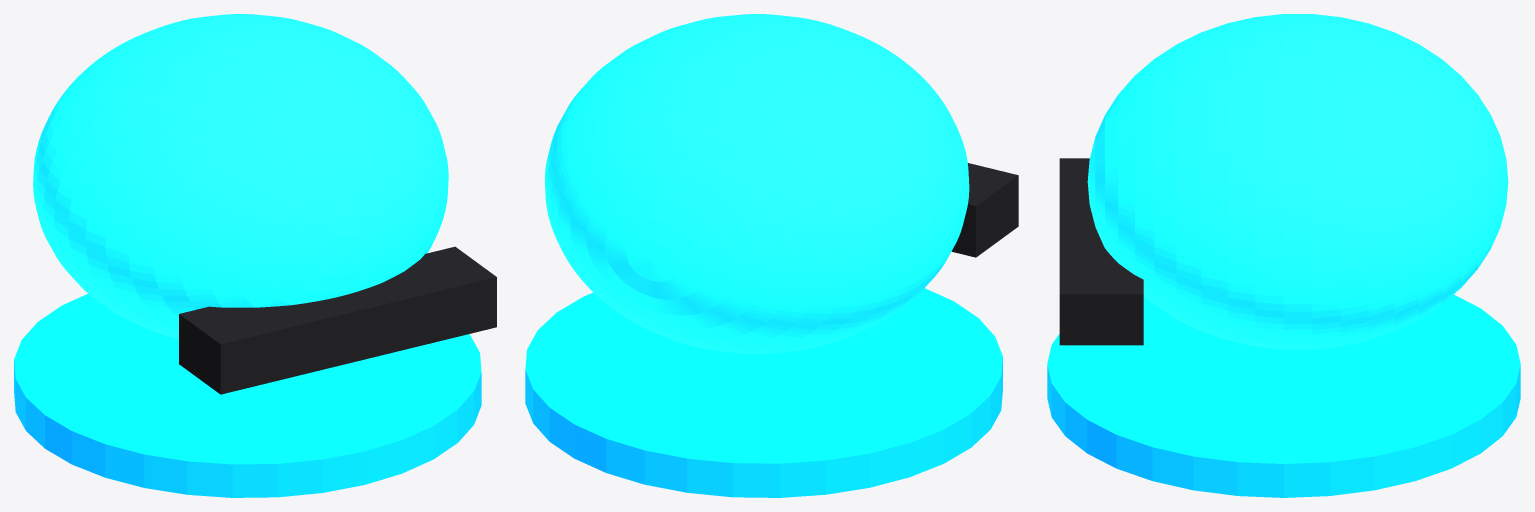
File: sports_bike_helmet.glb
The picture shows the model from 3 angles, left to right: view 1: azimuth 30°, elevation 25°; view 2: azimuth 150°, elevation 25°; view 3: azimuth 270°, elevation 25°; orthographic projection. The views are drawn at different scales.
Parts seen in each view (by area): view 1: 04_14_Popular_Sports_Bike_Helmet_part_01, 04_14_Popular_Sports_Bike_Helmet_ROOT_base, 04_14_Popular_Sports_Bike_Helmet_part_02; view 2: 04_14_Popular_Sports_Bike_Helmet_part_01, 04_14_Popular_Sports_Bike_Helmet_ROOT_base, 04_14_Popular_Sports_Bike_Helmet_part_02; view 3: 04_14_Popular_Sports_Bike_Helmet_part_01, 04_14_Popular_Sports_Bike_Helmet_ROOT_base, 04_14_Popular_Sports_Bike_Helmet_part_02.
Part boxes in pixels (left/top/right/bottom): 04_14_Popular_Sports_Bike_Helmet_part_01: left=33, top=14, right=448, bottom=338; 04_14_Popular_Sports_Bike_Helmet_ROOT_base: left=14, top=293, right=481, bottom=497; 04_14_Popular_Sports_Bike_Helmet_part_02: left=179, top=246, right=496, bottom=394; 04_14_Popular_Sports_Bike_Helmet_part_01: left=545, top=14, right=969, bottom=353; 04_14_Popular_Sports_Bike_Helmet_ROOT_base: left=525, top=288, right=1002, bottom=497; 04_14_Popular_Sports_Bike_Helmet_part_02: left=951, top=163, right=1018, bottom=257; 04_14_Popular_Sports_Bike_Helmet_part_01: left=1087, top=14, right=1508, bottom=349; 04_14_Popular_Sports_Bike_Helmet_ROOT_base: left=1047, top=294, right=1520, bottom=497; 04_14_Popular_Sports_Bike_Helmet_part_02: left=1059, top=158, right=1143, bottom=345.
Bounding box in the file's own units: 0.76 × 0.6351 × 0.76.
